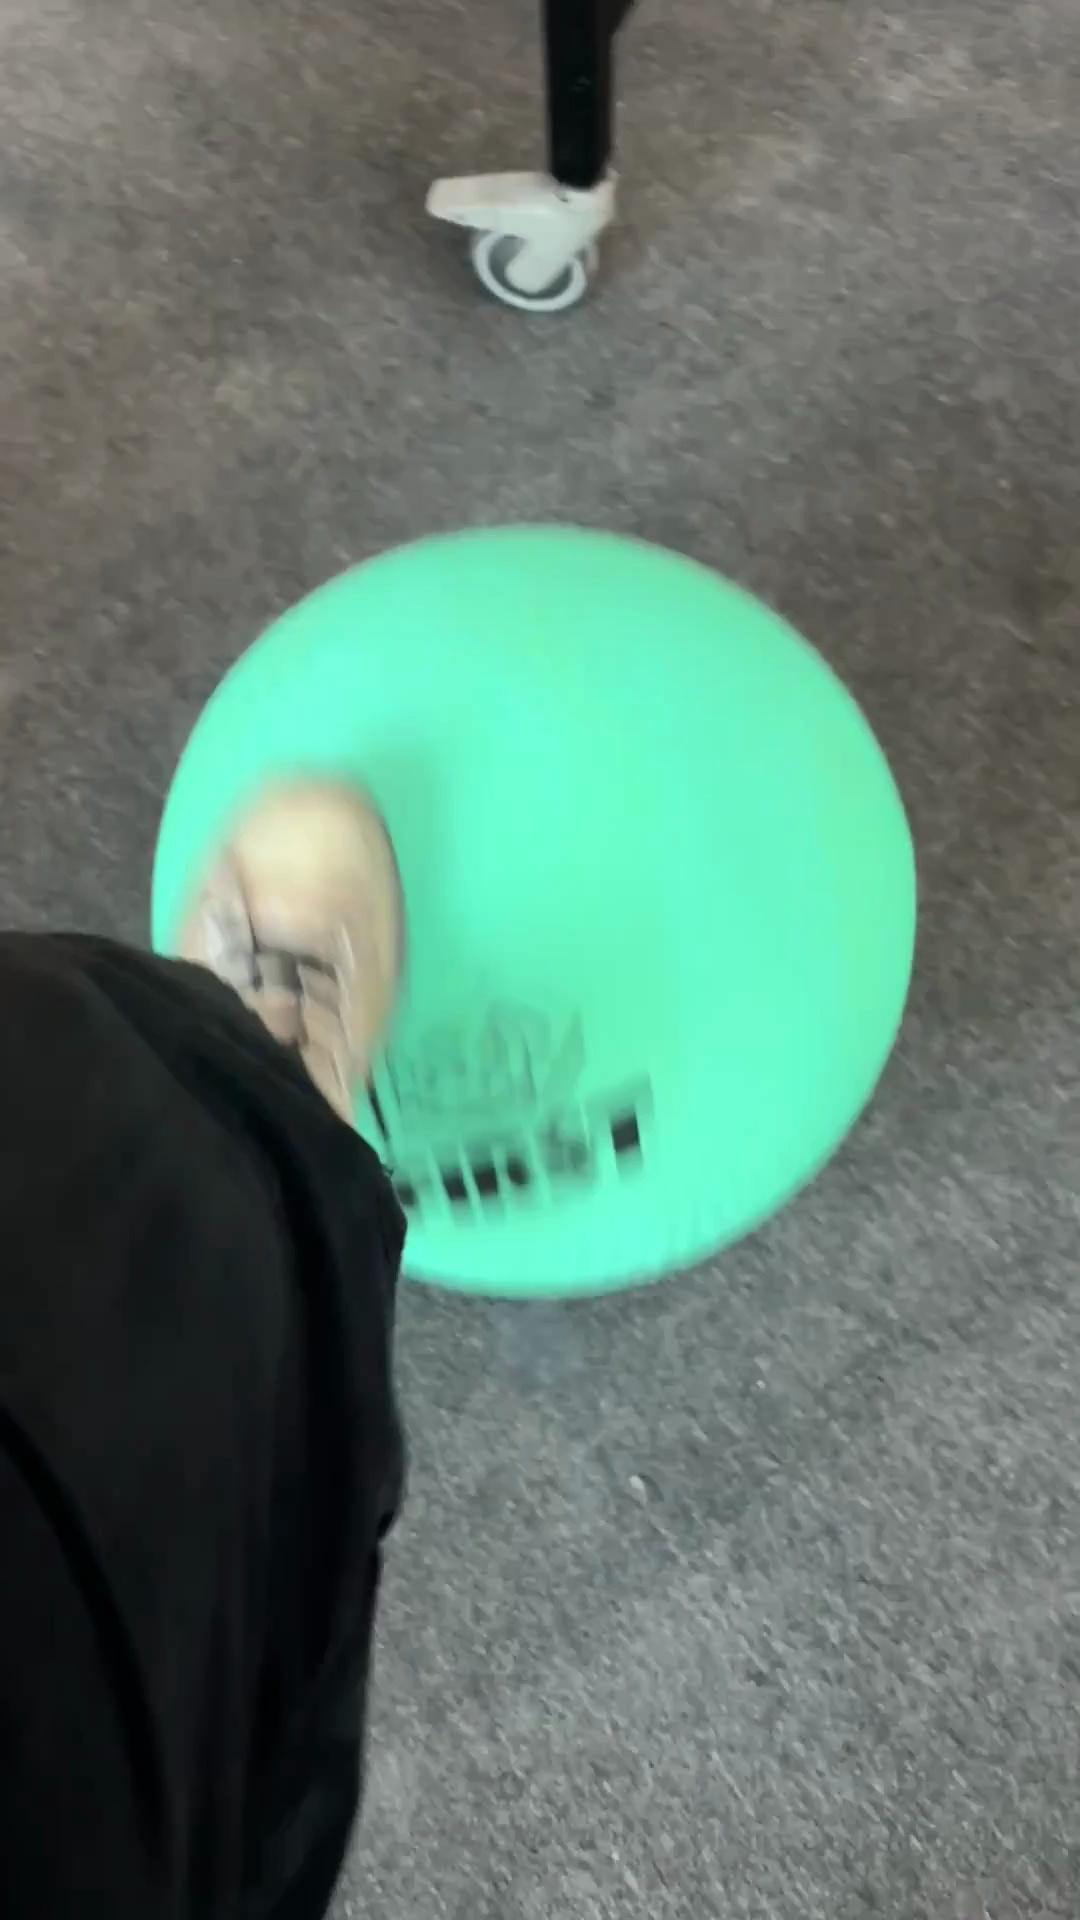ALGAE: (146, 519, 919, 1302)
